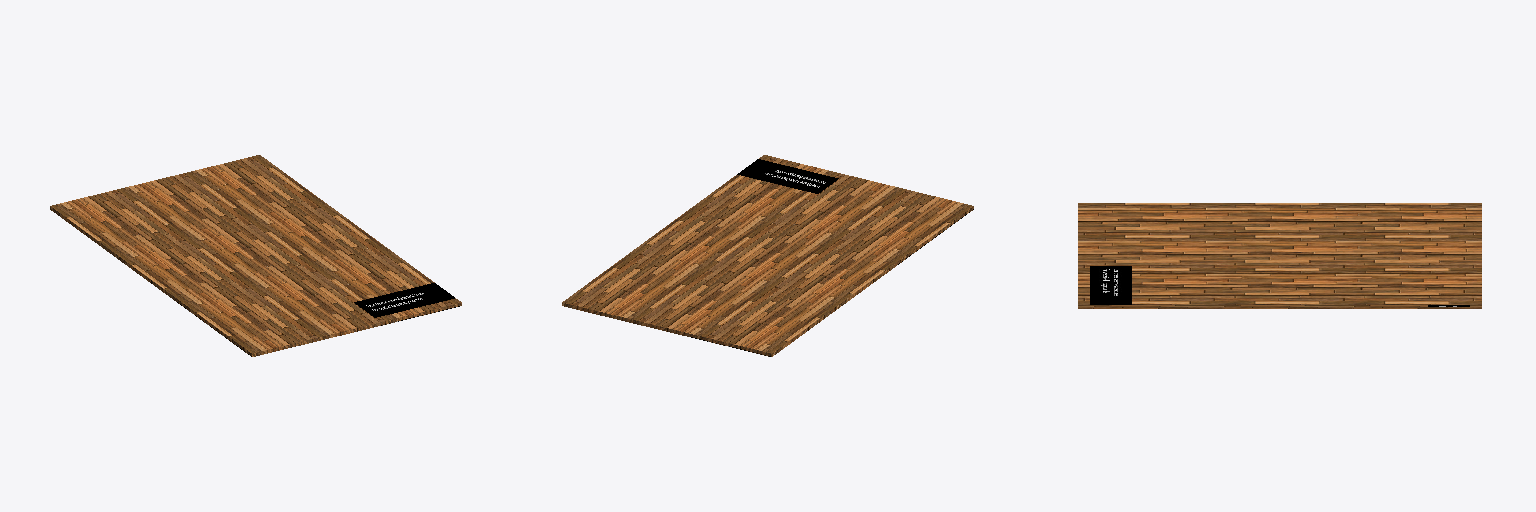
3 renders of one model, left to right at view 1: azimuth 30°, elevation 25°; view 2: azimuth 150°, elevation 25°; view 3: azimuth 270°, elevation 25°, orthographic.
Visible parts, largest first — view 1: Cube.001; view 2: Cube.001; view 3: Cube.001.
Part boxes in pixels (bbox=[...]): Cube.001: bbox=[50, 155, 461, 356]; Cube.001: bbox=[562, 155, 973, 356]; Cube.001: bbox=[1078, 203, 1481, 308].
Bounding box in the file's own units: 6 × 0.1 × 10.
1 materials, 1 textured.